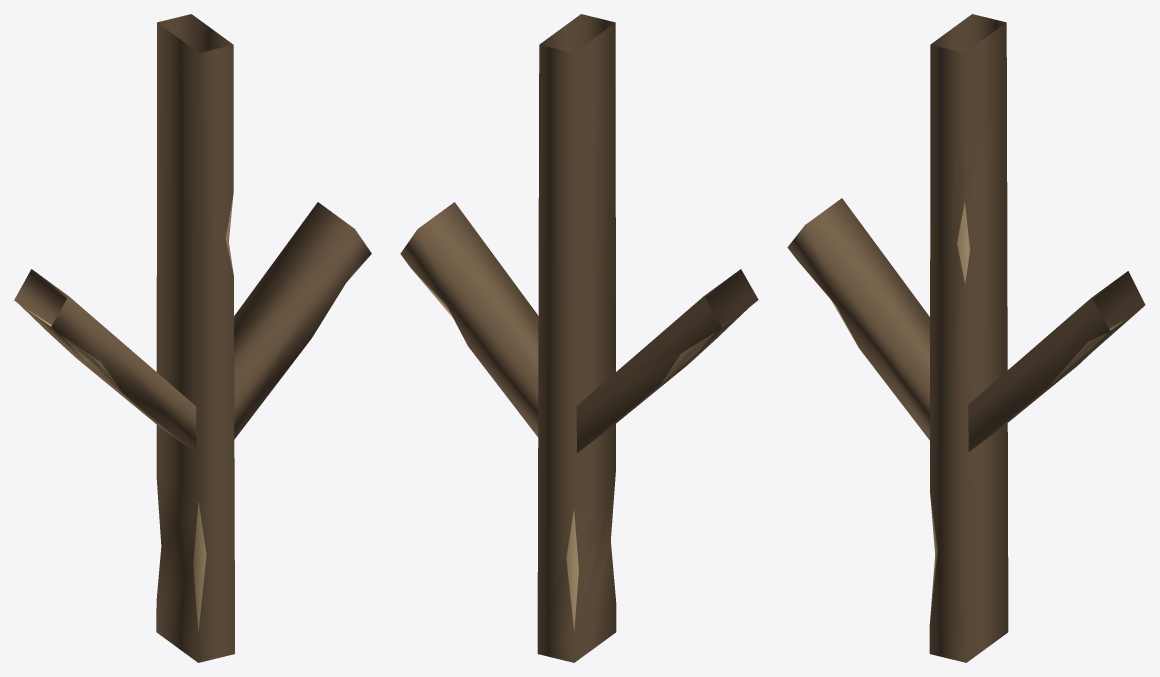
The model's file is rpgpp_ag_roof_end_01_6x5_wall_beam_a.fbx.
3 views of the same model, side by side, from view 1: azimuth 30°, elevation 25°; view 2: azimuth 150°, elevation 25°; view 3: azimuth 330°, elevation 25° (orthographic).
Visible parts, largest first — view 1: rpgpp_ag_roof_end_01_6x5_wall_beam_a; view 2: rpgpp_ag_roof_end_01_6x5_wall_beam_a; view 3: rpgpp_ag_roof_end_01_6x5_wall_beam_a.
Boxes of the visible parts, x1,y1,x2,y2 form: rpgpp_ag_roof_end_01_6x5_wall_beam_a: (14,14,371,662); rpgpp_ag_roof_end_01_6x5_wall_beam_a: (400,14,758,662); rpgpp_ag_roof_end_01_6x5_wall_beam_a: (787,14,1145,662).
Size of the model in its own units: 2.52 by 4.57 by 0.5692.
